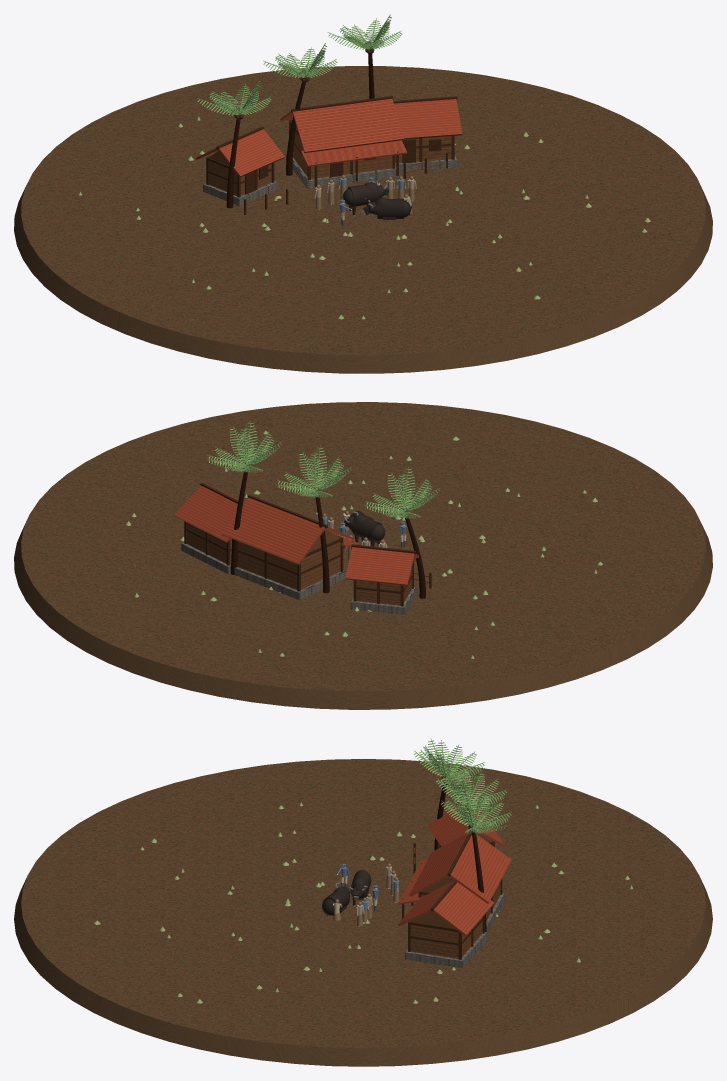
Rendered from 9.Kerbau_dan_Kehidupan_Petani_Enhanced-compressed.glb.
The picture shows the model from 3 angles, top to bottom: view 1: azimuth 30°, elevation 25°; view 2: azimuth 150°, elevation 25°; view 3: azimuth 270°, elevation 25°; orthographic projection.
Parts seen in each view (by area): view 1: Village_Soil_Ground, Main_Village_House, East_Village_House, West_Village_Pavilion, Coconut_Palm_West, Coconut_Palm_Center, Coconut_Palm_East, Standing_Water_Buffalo, Resting_Water_Buffalo, Ground_Foliage_Patches; view 2: Village_Soil_Ground, Main_Village_House, West_Village_Pavilion, East_Village_House, Coconut_Palm_Center, Coconut_Palm_East, Coconut_Palm_West, Standing_Water_Buffalo, Ground_Foliage_Patches; view 3: Village_Soil_Ground, East_Village_House, Main_Village_House, Coconut_Palm_East, Coconut_Palm_West, Coconut_Palm_Center, West_Village_Pavilion, Ground_Foliage_Patches, Resting_Water_Buffalo, Standing_Water_Buffalo.
Part boxes in pixels (x1=…): Village_Soil_Ground: x1=14, y1=66, x2=712, y2=373; Main_Village_House: x1=280, y1=96, x2=407, y2=188; East_Village_House: x1=393, y1=96, x2=462, y2=171; West_Village_Pavilion: x1=196, y1=126, x2=284, y2=205; Coconut_Palm_West: x1=197, y1=80, x2=271, y2=208; Coconut_Palm_Center: x1=263, y1=43, x2=337, y2=175; Coconut_Palm_East: x1=327, y1=14, x2=402, y2=98; Standing_Water_Buffalo: x1=342, y1=179, x2=390, y2=216; Resting_Water_Buffalo: x1=361, y1=197, x2=411, y2=219; Ground_Foliage_Patches: x1=78, y1=116, x2=650, y2=319; Village_Soil_Ground: x1=14, y1=402, x2=712, y2=709; Main_Village_House: x1=222, y1=495, x2=361, y2=599; West_Village_Pavilion: x1=345, y1=544, x2=422, y2=614; East_Village_House: x1=174, y1=483, x2=244, y2=573; Coconut_Palm_Center: x1=276, y1=445, x2=351, y2=593; Coconut_Palm_East: x1=207, y1=420, x2=282, y2=574; Coconut_Palm_West: x1=365, y1=466, x2=440, y2=598; Standing_Water_Buffalo: x1=343, y1=511, x2=385, y2=546; Ground_Foliage_Patches: x1=125, y1=430, x2=602, y2=658; Village_Soil_Ground: x1=14, y1=759, x2=712, y2=1066; East_Village_House: x1=398, y1=880, x2=494, y2=968; Main_Village_House: x1=398, y1=833, x2=511, y2=932; Coconut_Palm_East: x1=441, y1=788, x2=511, y2=931; Coconut_Palm_West: x1=414, y1=738, x2=484, y2=850; Coconut_Palm_Center: x1=436, y1=765, x2=507, y2=834; West_Village_Pavilion: x1=427, y1=802, x2=504, y2=848; Ground_Foliage_Patches: x1=94, y1=802, x2=633, y2=1003; Resting_Water_Buffalo: x1=322, y1=882, x2=351, y2=915; Standing_Water_Buffalo: x1=347, y1=870, x2=371, y2=906.
Bounding box in the file's own units: 49 × 12.18 × 49.
Materials: 26 (14 with a texture image).
